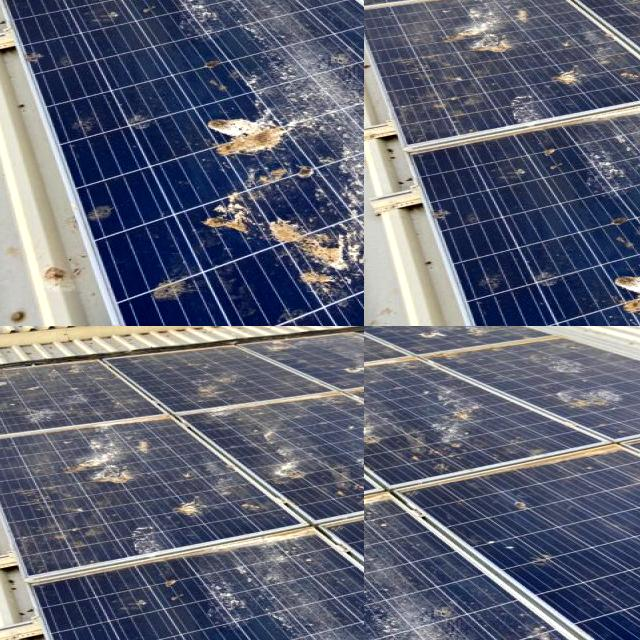bird: (545, 356, 640, 415), (414, 376, 481, 454), (364, 393, 403, 467), (364, 410, 404, 460), (364, 448, 400, 494)
dust: (451, 6, 640, 160), (419, 254, 640, 326)
panel: (0, 427, 169, 611), (35, 335, 364, 392), (190, 484, 364, 565)
shadow: (51, 0, 119, 70), (0, 0, 50, 72), (172, 0, 242, 46)
